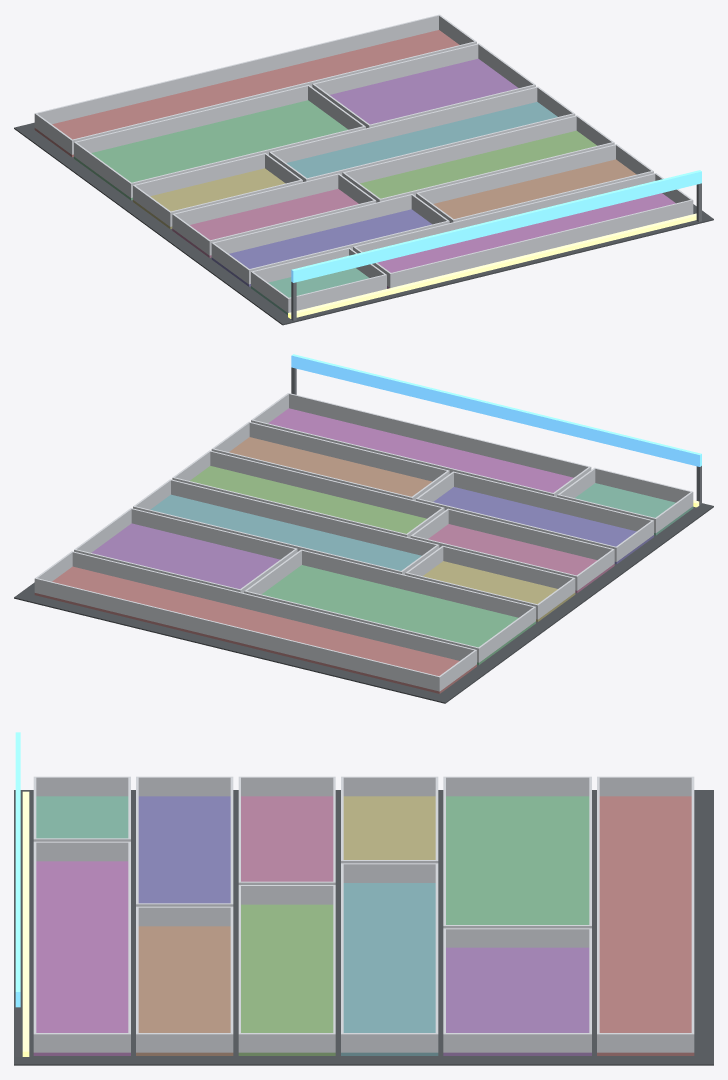
File: hall-fabricators.glb
3 renders of one model, top to bottom at view 1: azimuth 30°, elevation 25°; view 2: azimuth 150°, elevation 25°; view 3: azimuth 270°, elevation 25°, orthographic. The views are drawn at different scales.
Visible parts, largest first — view 1: Structural Fabricators; view 2: Structural Fabricators; view 3: Structural Fabricators.
Boxes of the visible parts, x1,y1,x2,y2 form: Structural Fabricators: (14, 14, 713, 325); Structural Fabricators: (14, 354, 713, 703); Structural Fabricators: (14, 732, 713, 1065).
Bounding box in the file's own units: 38 × 4.3 × 41.
